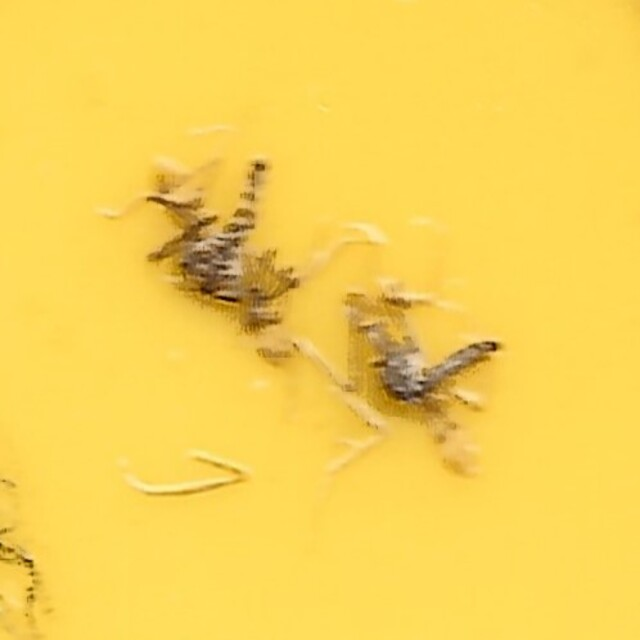Nematocera: (129, 148, 307, 367), (357, 296, 511, 492)
